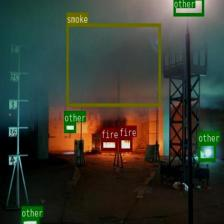fire: (118, 137, 132, 151), (100, 139, 116, 150)
smoke: (66, 23, 160, 106)
